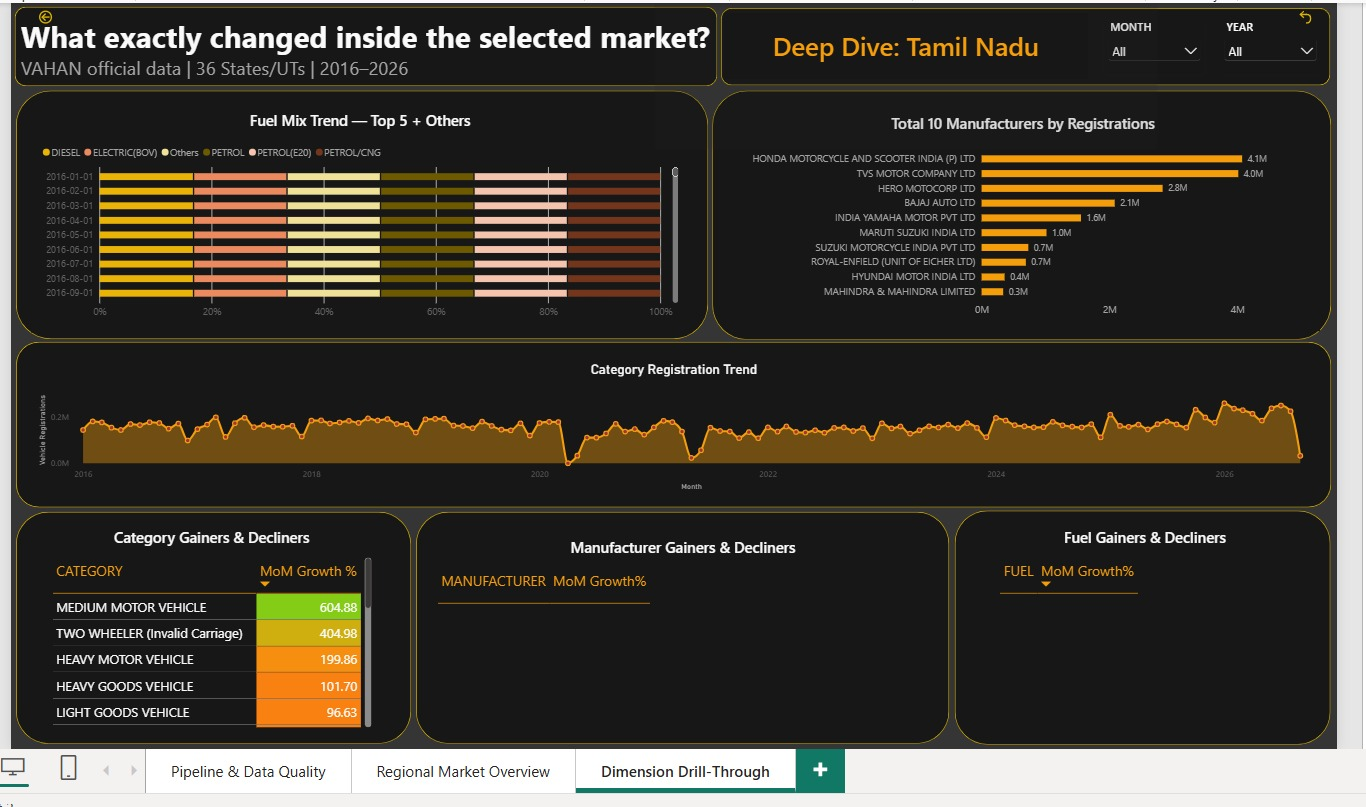

Layout of this report page (visuals, bound fields, positions):
{"tool":"powerbi","page":{"name":"Dimension Drill-Through","canvas":[1920,1080],"ordinal":2},"visuals":[{"type":"shape","box":[6,5,1017,115],"z":0},{"type":"shape","box":[1027,8,882,112],"z":1000},{"type":"shape","box":[7,127,1002,360],"z":2000},{"type":"shape","box":[1367,734,544,339],"z":3000},{"type":"shape","box":[8,736,572,336],"z":4000},{"type":"shape","box":[587,736,772,336],"z":5000},{"type":"shape","box":[1016,127,896,361],"z":6000},{"type":"shape","box":[8,490,1904,240],"z":7000},{"type":"hundredPercentStackedBarChart","title":"Fuel Mix Trend — Top 5 + Others","fields":{"Category":["DIM_DATE.PERIOD"],"Series":["DIM_FUEL.Fuel Group"],"Y":["DAX_Measures.Fuel Share %"]},"box":[29,141,953,336],"z":8000},{"type":"areaChart","title":"Category Registration Trend","fields":{"Category":["DIM_DATE.DATE_KEY"],"Y":["DAX_Measures.Total Category Registrations"]},"box":[24,504,1872,216],"z":9000},{"type":"clusteredBarChart","title":"Total 10 Manufacturers by Registrations","fields":{"Category":["DIM_MANUFACTURER.MANUFACTURER_NAME"],"Y":["DAX_Measures.Total Manufacturer Registrations"]},"box":[1035,144,860,330],"z":10000},{"type":"tableEx","title":"Category Gainers & Decliners","fields":{"Values":["DIM_CATEGORY.CATEGORY_NAME","DAX_Measures.Category MoM Growth %"]},"box":[44,744,494,321],"z":11000},{"type":"slicer","title":"STATE","fields":{"Values":["DIM_DATE.MONTH_NAME"]},"box":[1584,24,144,80],"z":12000},{"type":"slicer","title":"STATE","fields":{"Values":["DIM_DATE.YEAR"]},"box":[1752,24,144,80],"z":13000},{"type":"tableEx","title":"Manufacturer Gainers & Decliners","fields":{"Values":["DIM_MANUFACTURER.MANUFACTURER_NAME","DAX_Measures.Manufacturer MoM Growth2 %"]},"box":[600,759,744,288],"z":14000},{"type":"tableEx","title":"Fuel Gainers & Decliners","fields":{"Values":["DIM_FUEL.FUEL_NAME","DAX_Measures.Fuel MoM Growth2 %"]},"box":[1416,744,453,321],"z":15000},{"type":"card","fields":{"Values":["DAX_Measures.Drill-through Title"]},"box":[1032,15,528,96],"z":16000},{"type":"actionButton","box":[0,0,100,40],"z":17000},{"type":"textbox","box":[15,0,1056,144],"z":18000},{"type":"actionButton","box":[1824,0,100,40],"z":19000}]}

Visuals, with their boxes on the page's 1920x1080 design canvas (x1, y1, x2, y2). These are canvas units, not pixel positions in the 1366x807 screenshot, which may show the page scaled, cropped or inside an application window:
shape: region(6, 5, 1023, 120)
shape: region(1027, 8, 1909, 120)
shape: region(7, 127, 1009, 487)
shape: region(1367, 734, 1911, 1073)
shape: region(8, 736, 580, 1072)
shape: region(587, 736, 1359, 1072)
shape: region(1016, 127, 1912, 488)
shape: region(8, 490, 1912, 730)
"Fuel Mix Trend — Top 5 + Others" hundredPercentStackedBarChart: region(29, 141, 982, 477)
"Category Registration Trend" areaChart: region(24, 504, 1896, 720)
"Total 10 Manufacturers by Registrations" clusteredBarChart: region(1035, 144, 1895, 474)
"Category Gainers & Decliners" tableEx: region(44, 744, 538, 1065)
"STATE" slicer: region(1584, 24, 1728, 104)
"STATE" slicer: region(1752, 24, 1896, 104)
"Manufacturer Gainers & Decliners" tableEx: region(600, 759, 1344, 1047)
"Fuel Gainers & Decliners" tableEx: region(1416, 744, 1869, 1065)
card - DAX_Measures.Drill-through Title: region(1032, 15, 1560, 111)
actionButton: region(0, 0, 100, 40)
textbox: region(15, 0, 1071, 144)
actionButton: region(1824, 0, 1924, 40)
